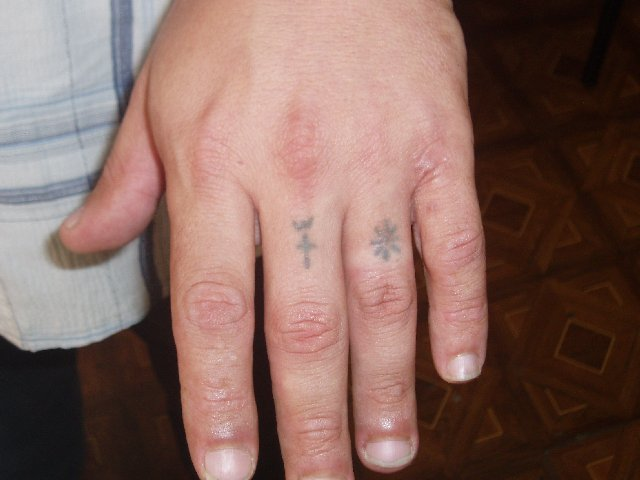tatu9_krest: (291, 235, 323, 264)
